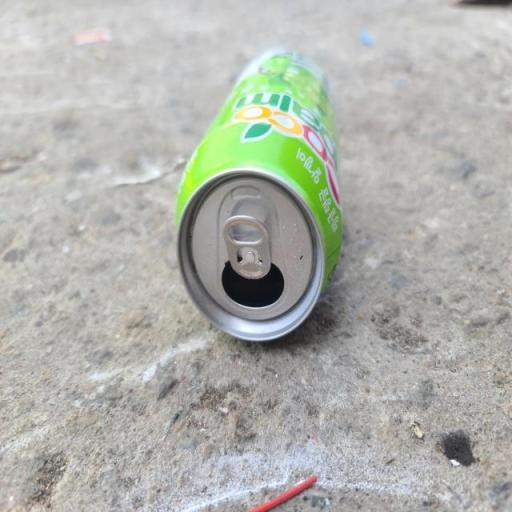metal: (122, 16, 400, 369)
